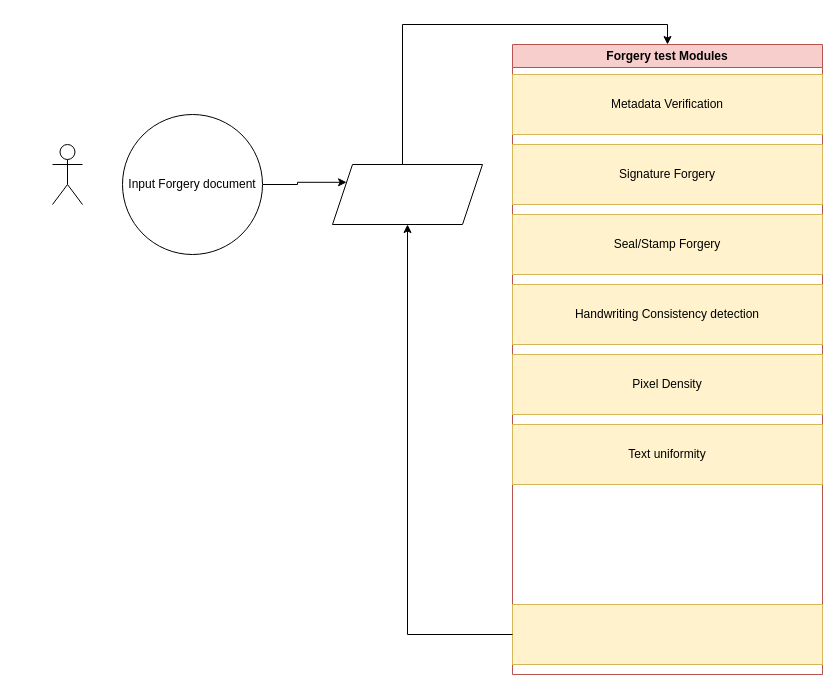
The diagram is 840 pixels wide and 692 high, and some of its shapes have lost their labels. The shapes that lost their labels are listed below. From the top down, each one's centre as x and y in pixels, then its label:
[67,174]: Investigation Team
[407,194]: Test Case Handler
[667,634]: More to come...
